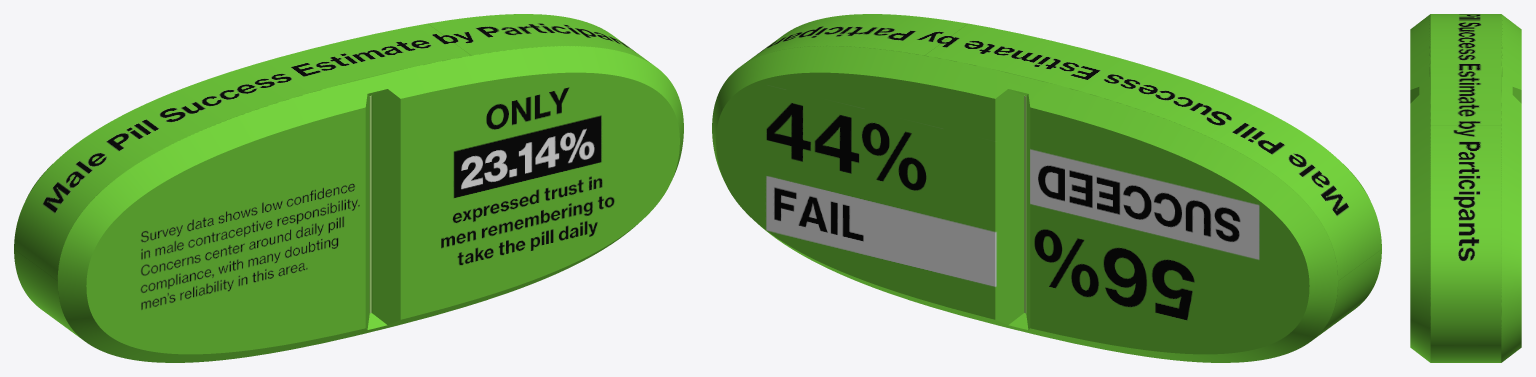
The model's file is greenpill_text.gltf.
3 renders of one model, left to right at view 1: azimuth 30°, elevation 25°; view 2: azimuth 150°, elevation 25°; view 3: azimuth 270°, elevation 25°, orthographic. The views are drawn at different scales.
Bounding box in the file's own units: 0.1493 × 0.0582 × 0.0282.
Materials: 2 (1 with a texture image).
